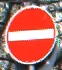No entry: (5, 6, 57, 64)
